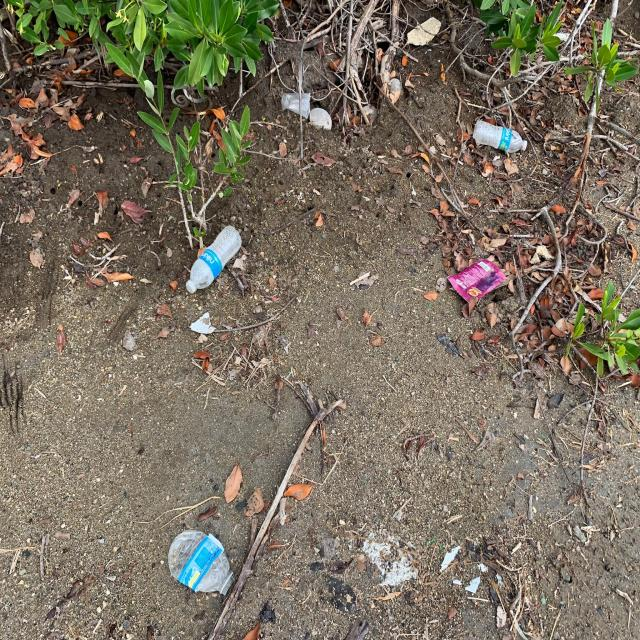litter: (168, 530, 237, 597), (185, 225, 242, 294), (447, 258, 507, 302), (472, 118, 528, 154), (311, 108, 332, 130), (281, 93, 299, 115), (302, 93, 311, 119)
